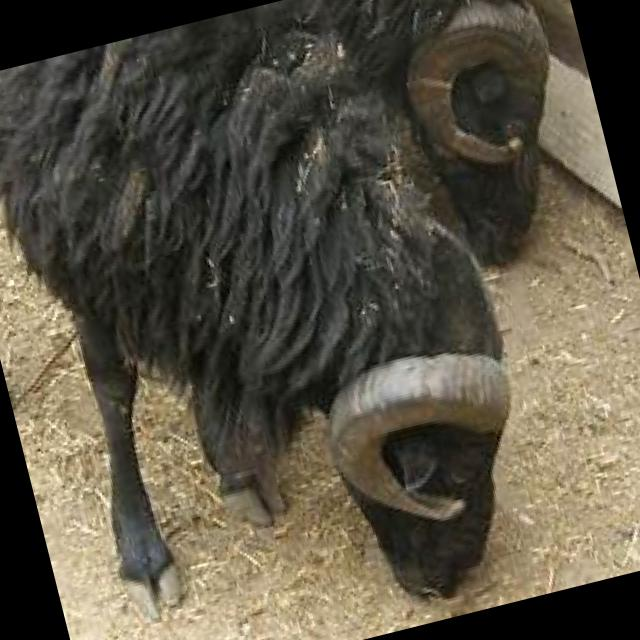animal: (0, 0, 561, 640), (319, 0, 593, 291)
